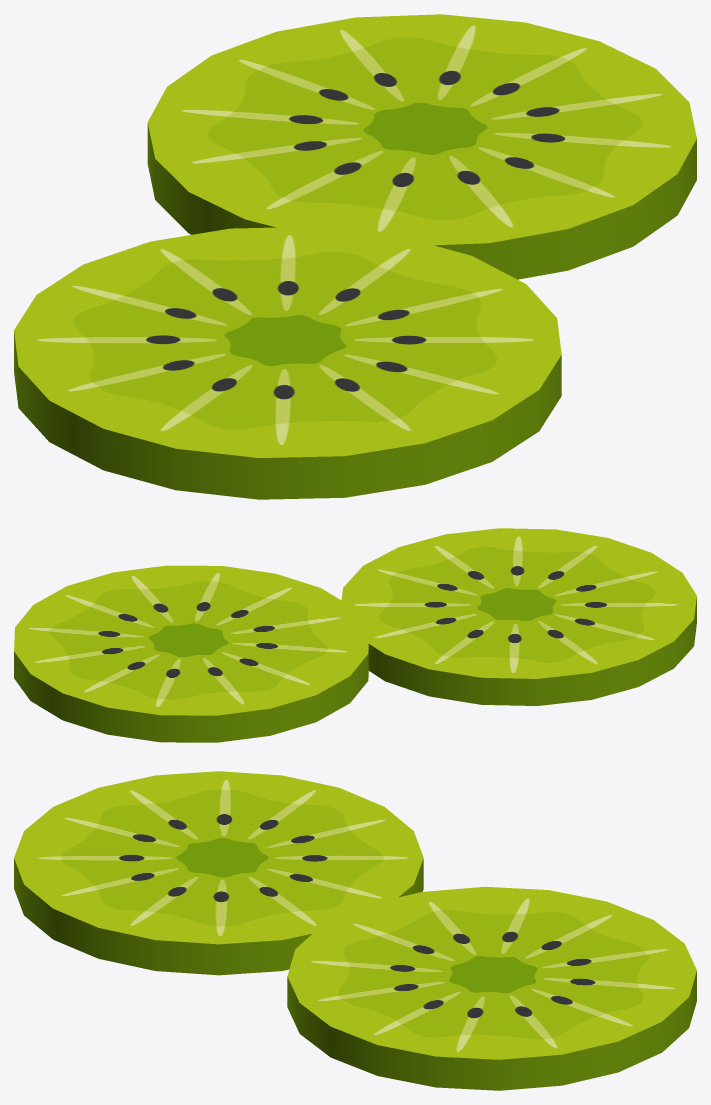
The model's file is Qiiwi_Slice.glb.
3 renders of one model, top to bottom at view 1: azimuth 30°, elevation 25°; view 2: azimuth 150°, elevation 25°; view 3: azimuth 270°, elevation 25°, orthographic. The views are drawn at different scales.
Visible parts, largest first — view 1: Qiiwi_Slice; view 2: Qiiwi_Slice; view 3: Qiiwi_Slice.
Part boxes in pixels (x1,y1,x2,y2): Qiiwi_Slice: (14, 14, 696, 499); Qiiwi_Slice: (14, 528, 696, 742); Qiiwi_Slice: (14, 771, 696, 1090).
Bounding box in the file's own units: 20 × 1 × 20.
Materials: 1 (1 with a texture image).
